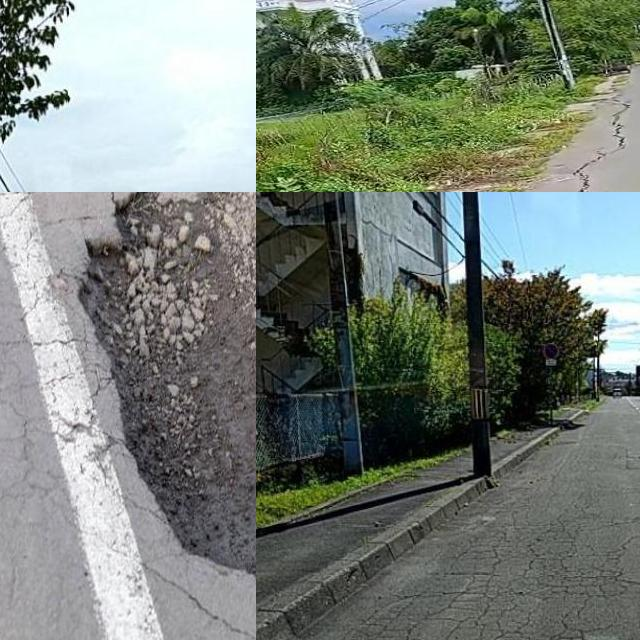Pinggir: (78, 192, 256, 585), (435, 83, 640, 192)
Retak Buaya: (381, 524, 604, 640)
